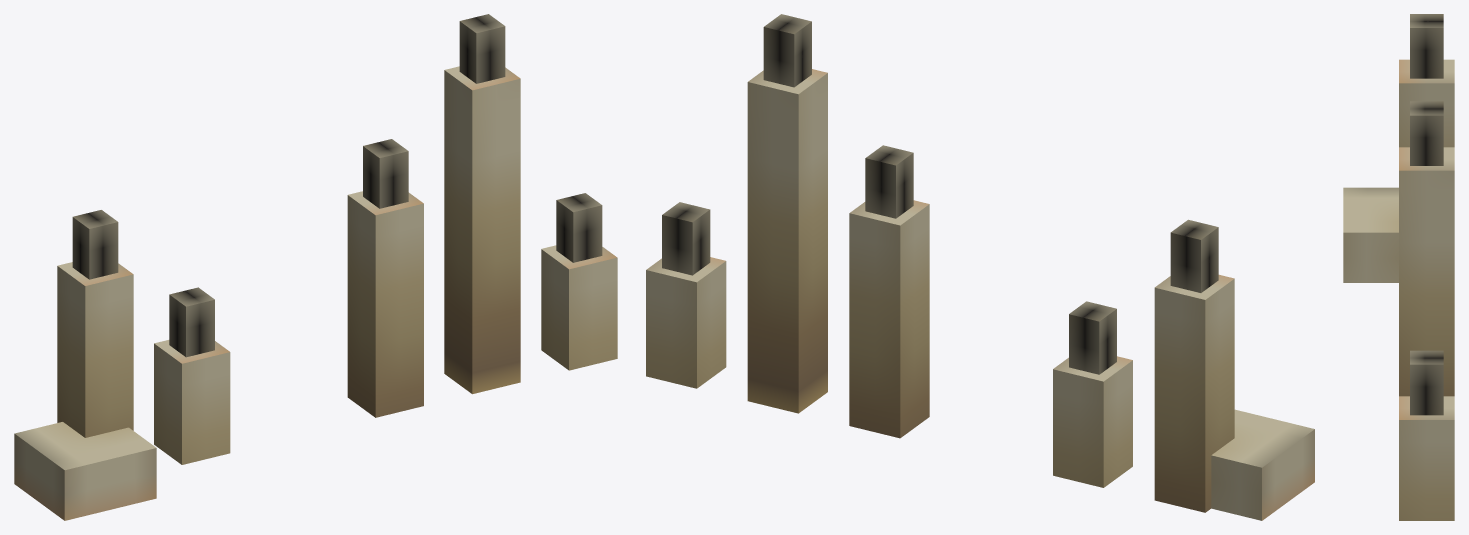
The model's file is candle_arrangement_03.fbx.
The picture shows the model from 3 angles, left to right: view 1: azimuth 30°, elevation 25°; view 2: azimuth 150°, elevation 25°; view 3: azimuth 270°, elevation 25°; orthographic projection. The views are drawn at different scales.
Visible parts, largest first — view 1: candle_arrangement_03; view 2: candle_arrangement_03; view 3: candle_arrangement_03.
Part boxes in pixels (<box>): candle_arrangement_03: <box>14,14,617,520</box>; candle_arrangement_03: <box>646,14,1314,520</box>; candle_arrangement_03: <box>1343,14,1454,520</box>.
Bounding box in the file's own units: 12 × 7 × 2.
